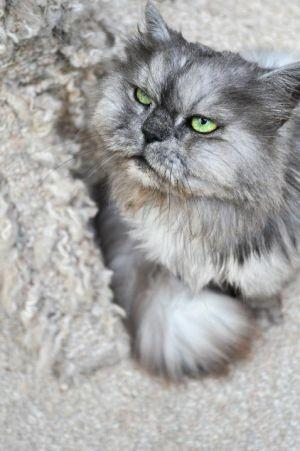persian: (80, 1, 300, 240)
